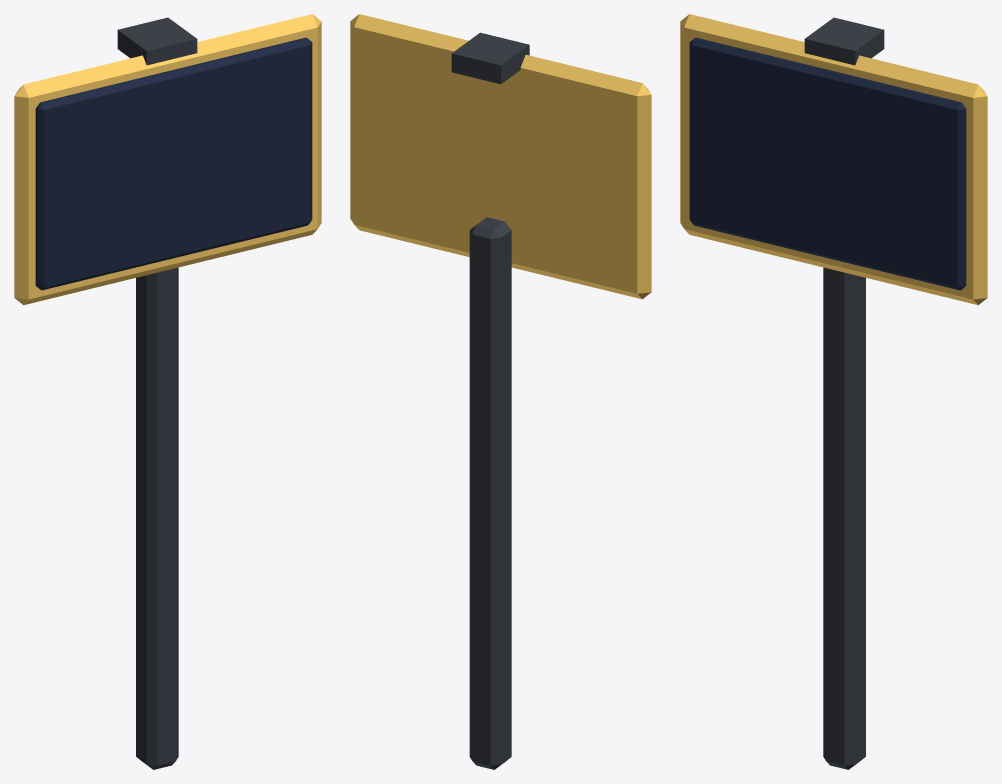
The model's file is direction-sign.glb.
3 views of the same model, side by side, from view 1: azimuth 30°, elevation 25°; view 2: azimuth 150°, elevation 25°; view 3: azimuth 330°, elevation 25° (orthographic). The views are drawn at different scales.
Parts seen in each view (by area): view 1: direction-sign; view 2: direction-sign; view 3: direction-sign.
Boxes of the visible parts, box(x1,y1,x2,y2) form: direction-sign: box(14, 14, 321, 769); direction-sign: box(350, 14, 651, 769); direction-sign: box(680, 14, 987, 769).
Bounding box in the file's own units: 1.34 × 3.04 × 0.26.
